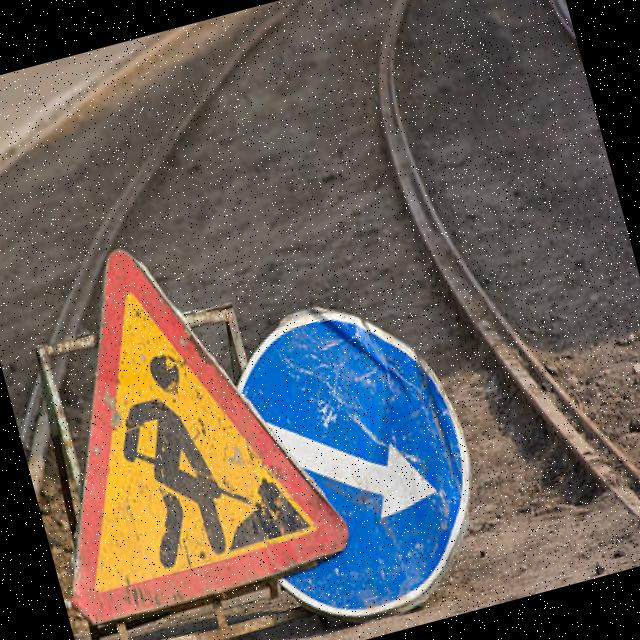road_work: (0, 211, 343, 623)
